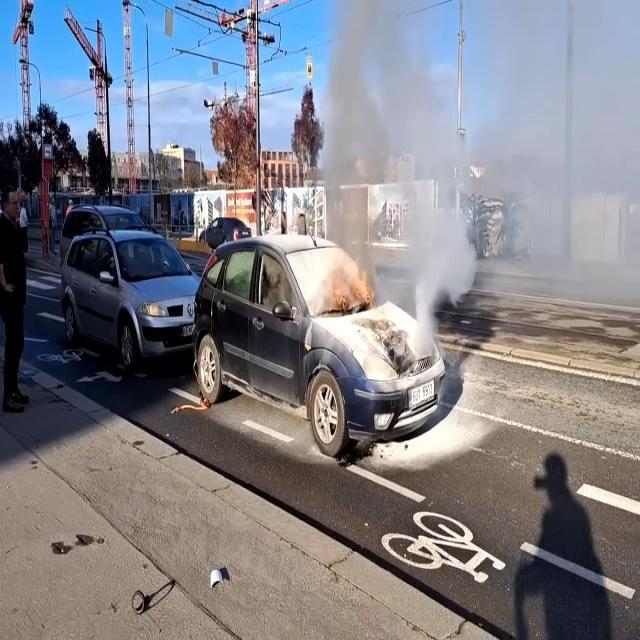Smoke: (291, 2, 640, 325)
